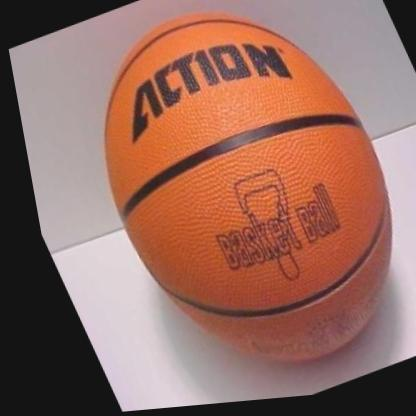basketball: (34, 0, 416, 414)
